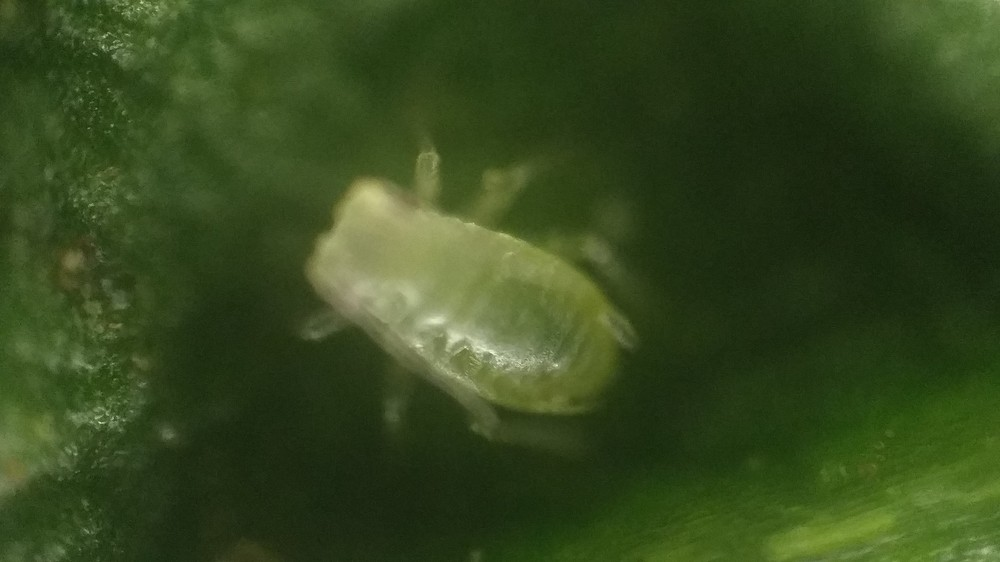Pulgon: (268, 109, 691, 483)
